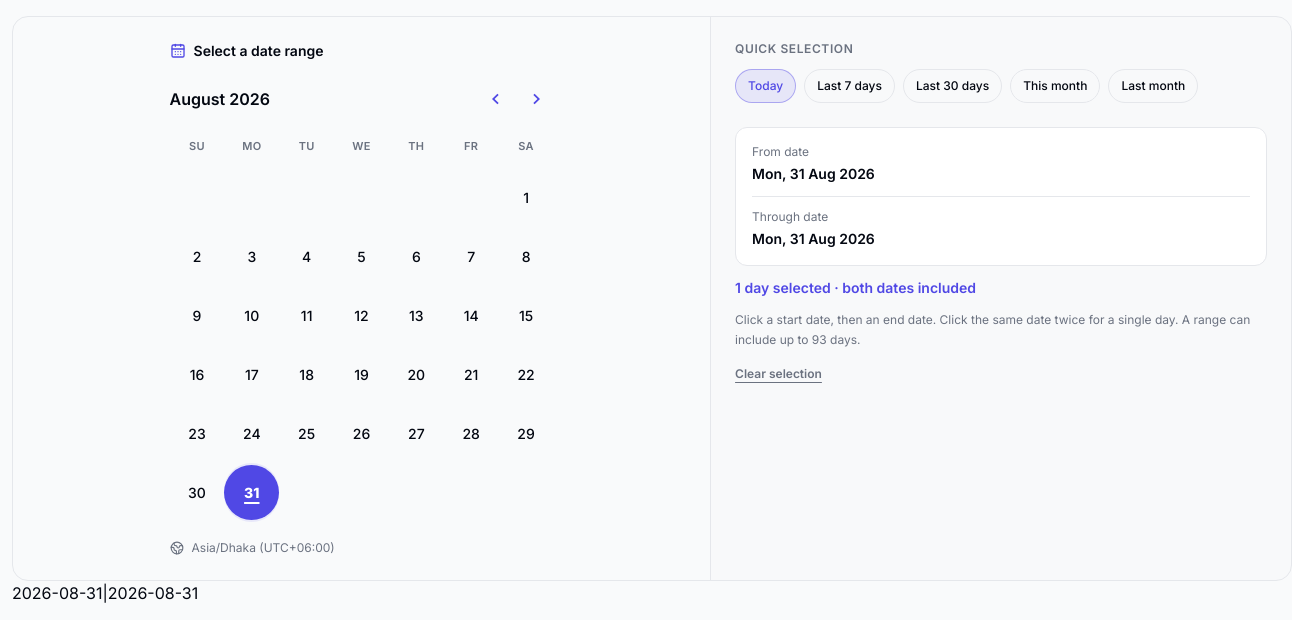
PlacementDateRangePicker › selects a single day by clicking the same date twice
Click the button named "August 31st, 2026" at (252, 493), box [224,465,279,520]
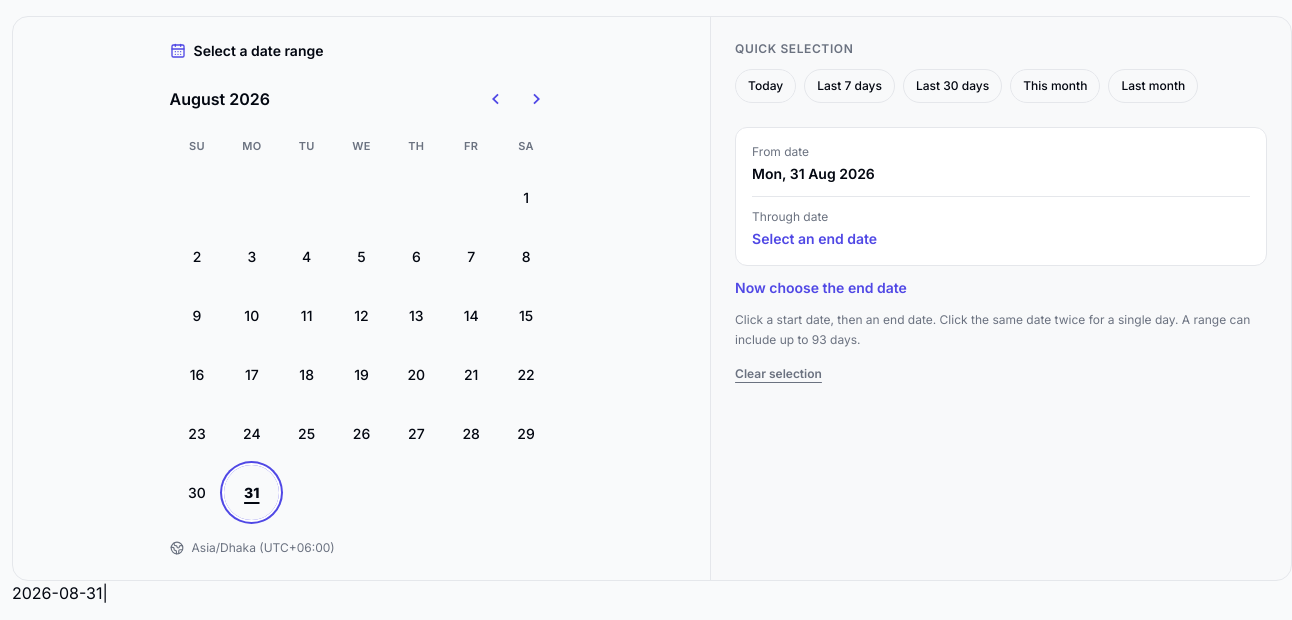
Expected: the text named "Selected range" reads "2026-08-31|", [12,583,102,603]
Click the button named "August 31st, 2026" at (252, 493), box [224,465,279,520]
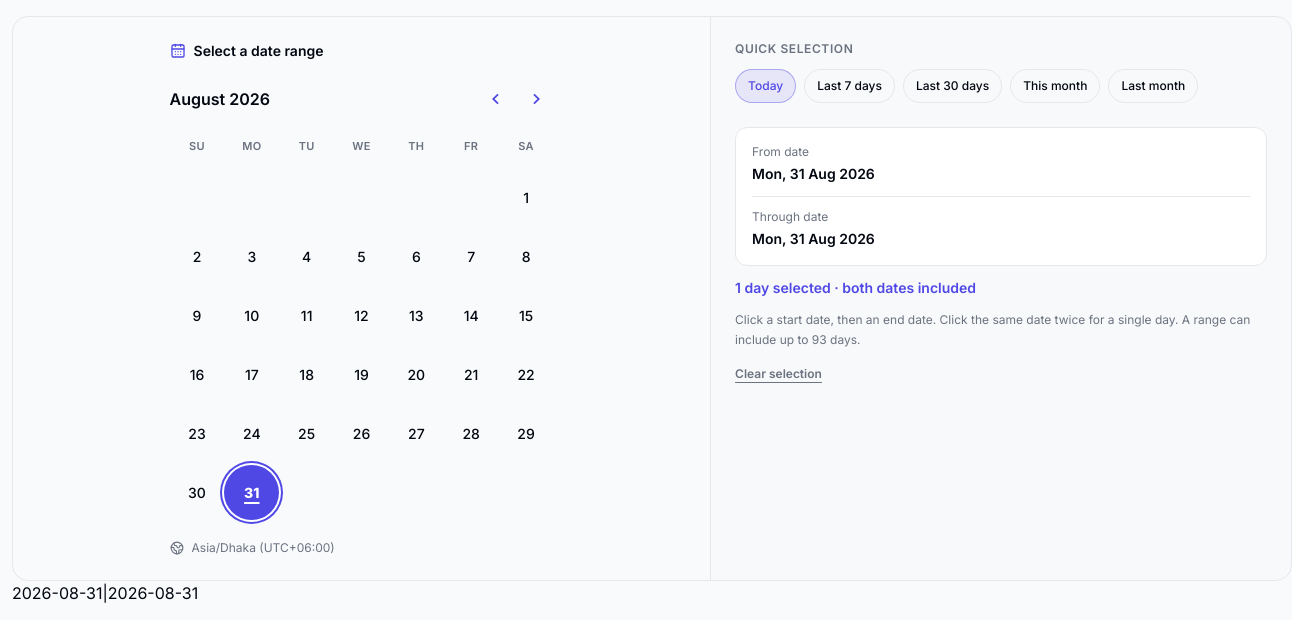
Result: the text "1 day selected · both dates included" is shown at [735,279,976,296]
